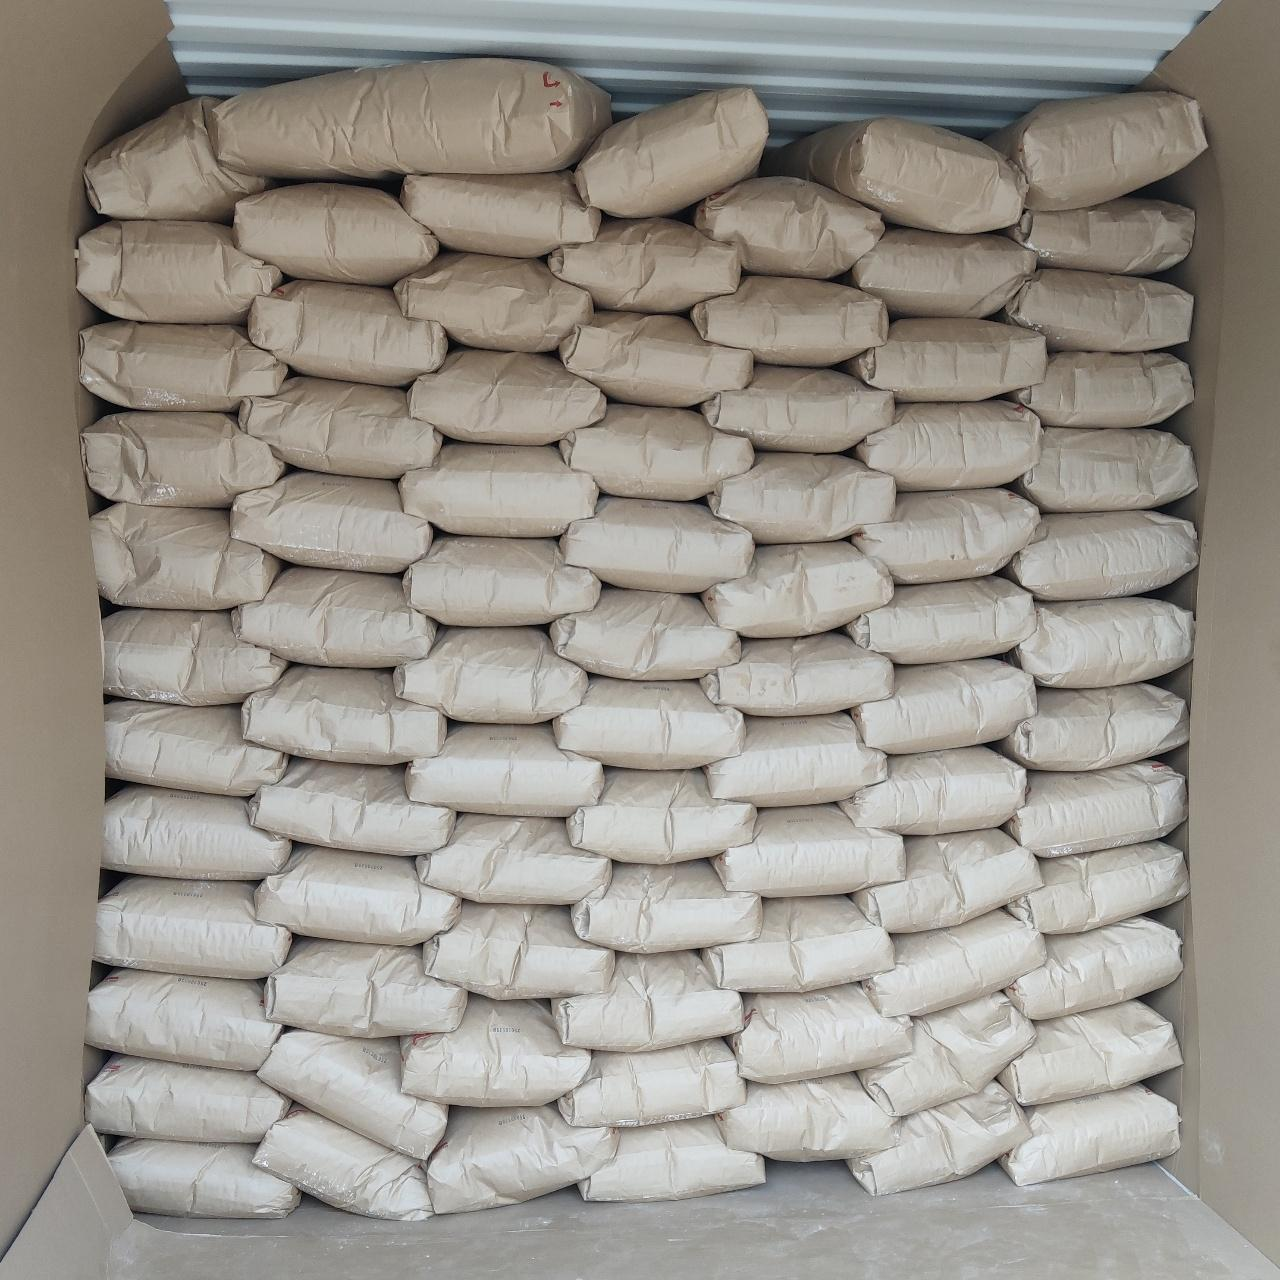sack: (210, 60, 610, 178), (774, 120, 1022, 230), (988, 92, 1206, 206), (576, 88, 766, 214), (260, 1030, 446, 1158), (86, 98, 270, 220), (860, 994, 1030, 1116), (240, 376, 440, 478), (78, 222, 282, 322), (236, 184, 438, 284), (234, 566, 434, 666), (402, 996, 590, 1102), (232, 472, 430, 572), (428, 1106, 614, 1212), (250, 282, 446, 382), (264, 938, 464, 1036), (850, 1084, 1028, 1194), (258, 846, 458, 942), (88, 970, 280, 1070), (242, 666, 446, 760), (250, 760, 454, 854), (256, 1108, 430, 1218), (396, 252, 590, 350), (84, 412, 284, 506), (94, 504, 278, 606), (864, 910, 1044, 1014), (410, 348, 604, 444), (694, 178, 884, 276), (856, 830, 1038, 932), (1000, 1000, 1180, 1102), (560, 404, 750, 500), (98, 878, 288, 974), (80, 322, 286, 410), (560, 312, 750, 406), (402, 442, 596, 534), (1006, 918, 1180, 1020), (562, 496, 750, 590), (396, 628, 584, 722), (424, 904, 612, 998), (704, 542, 892, 636), (554, 952, 742, 1046), (704, 898, 892, 990), (548, 220, 740, 310), (408, 724, 600, 814), (104, 786, 290, 878), (568, 770, 754, 862), (1000, 1086, 1178, 1182), (692, 276, 886, 364), (88, 1056, 286, 1142), (854, 490, 1038, 582), (552, 588, 740, 678), (418, 814, 610, 902), (104, 610, 286, 702), (852, 658, 1034, 750), (106, 702, 284, 796), (732, 984, 910, 1078), (1006, 760, 1184, 854), (404, 536, 598, 622), (554, 678, 742, 766), (714, 806, 902, 894), (700, 366, 892, 452), (708, 714, 886, 806), (708, 454, 894, 542), (572, 862, 758, 950), (1008, 842, 1188, 932), (850, 228, 1034, 316), (1008, 512, 1196, 598), (844, 318, 1046, 398), (402, 172, 598, 254), (1000, 684, 1186, 770), (1010, 598, 1190, 686), (998, 268, 1190, 350), (856, 400, 1038, 486), (560, 1040, 742, 1126), (846, 578, 1032, 662), (702, 632, 892, 714), (842, 746, 1024, 830), (110, 1140, 300, 1218), (718, 1074, 894, 1158), (1016, 428, 1196, 510), (580, 1118, 764, 1198), (1008, 196, 1194, 274), (1008, 352, 1190, 426)
